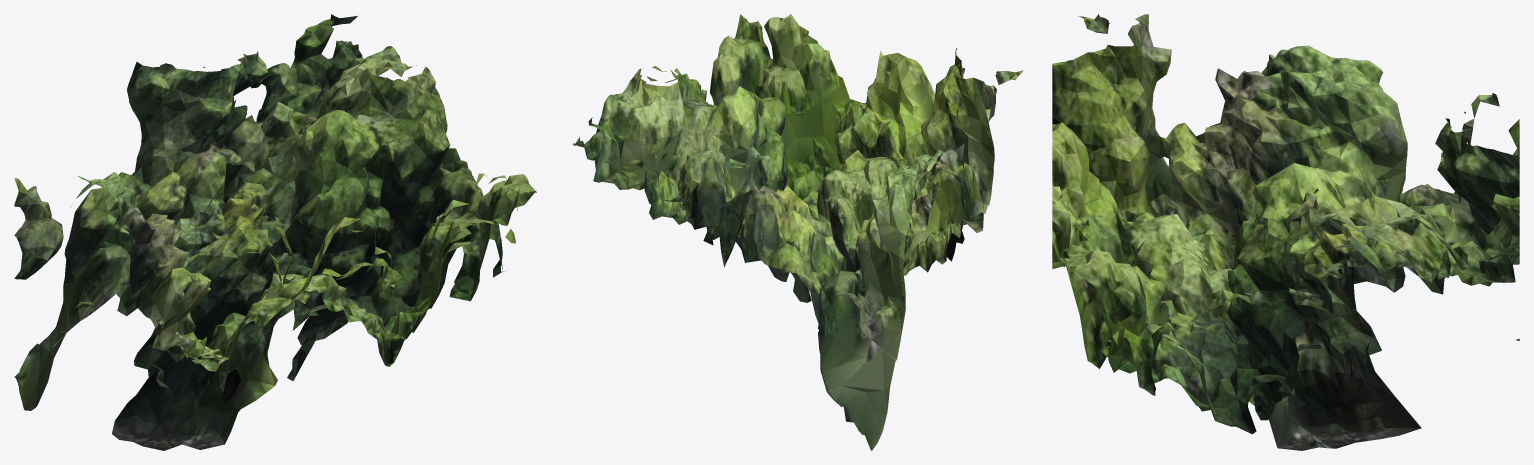
3 renders of one model, left to right at view 1: azimuth 30°, elevation 25°; view 2: azimuth 150°, elevation 25°; view 3: azimuth 270°, elevation 25°, orthographic. The views are drawn at different scales.
Size of the model in its own units: 52.22 by 47.86 by 52.22.
Materials: 7 (7 with a texture image).
